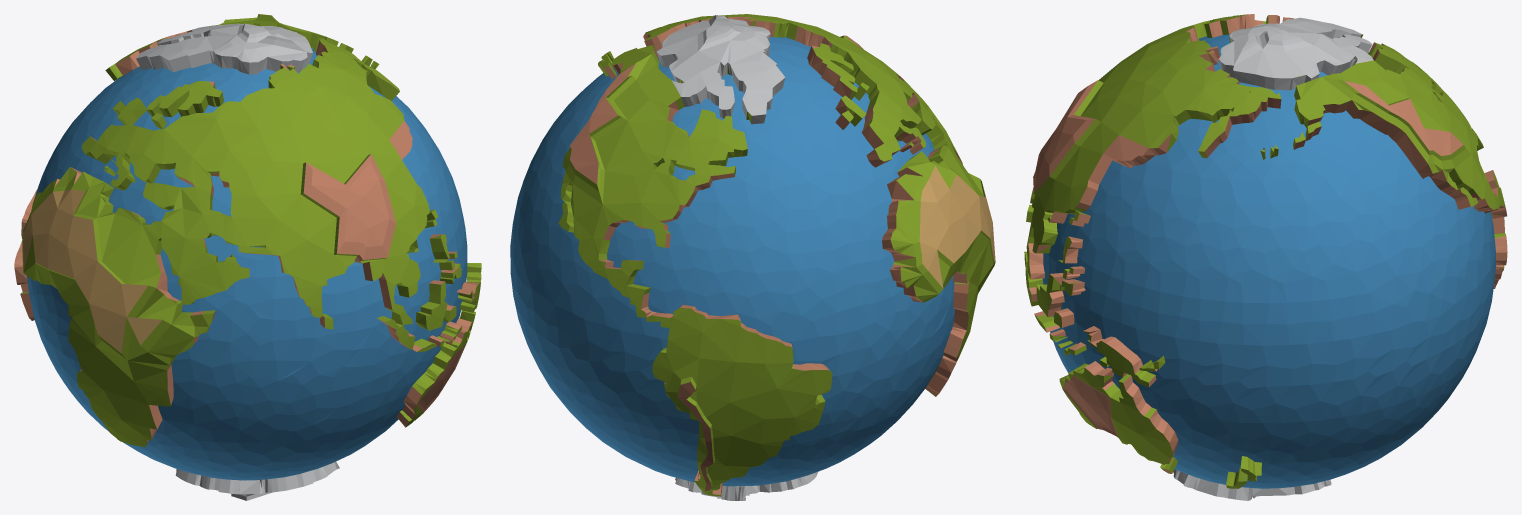
File: low-poly-earth.glb
The picture shows the model from 3 angles, left to right: view 1: azimuth 30°, elevation 25°; view 2: azimuth 150°, elevation 25°; view 3: azimuth 270°, elevation 25°; orthographic projection. The views are drawn at different scales.
Parts seen in each view (by area): view 1: Object_Planet_0; view 2: Object_Planet_0; view 3: Object_Planet_0.
Part boxes in pixels (bbox=[...]): Object_Planet_0: bbox=[14, 14, 481, 500]; Object_Planet_0: bbox=[510, 14, 995, 500]; Object_Planet_0: bbox=[1024, 14, 1507, 500].
Bounding box in the file's own units: 2.09 × 2.23 × 2.09.
Materials: 1 (1 with a texture image).
